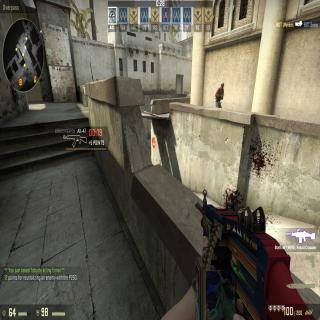T-Body: (215, 82, 225, 108)
T-Head: (220, 81, 224, 89)
